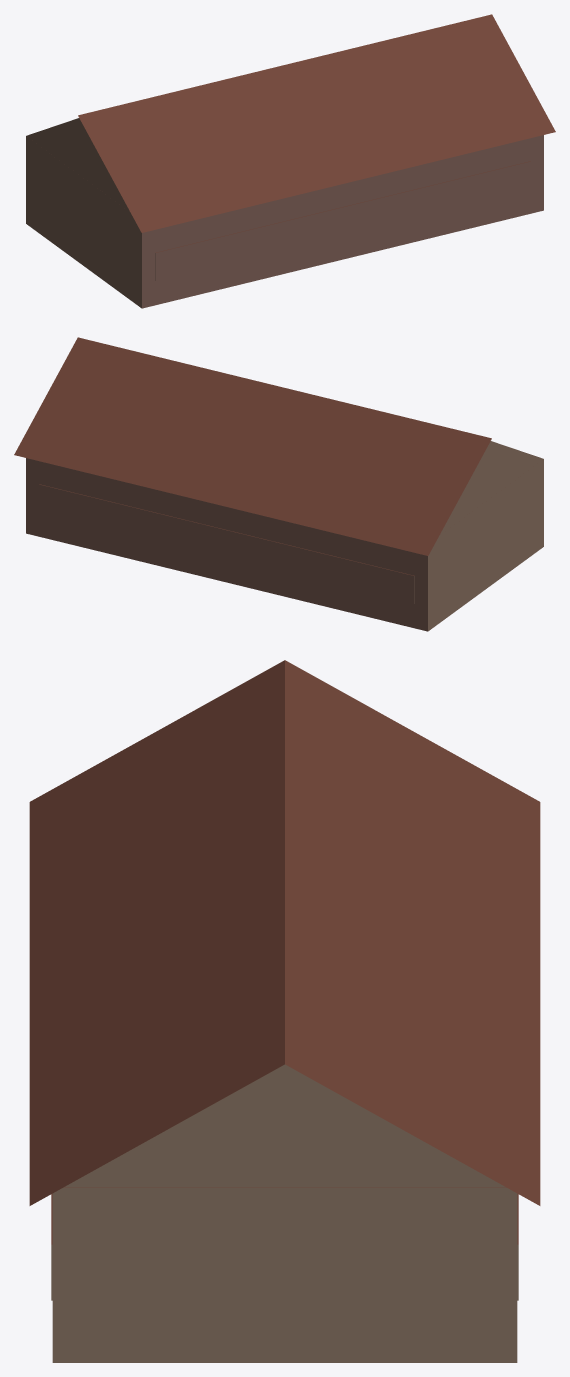
Rendered from schoolhouse.far-facades-v1.lod2.glb.
3 renders of one model, top to bottom at view 1: azimuth 30°, elevation 25°; view 2: azimuth 150°, elevation 25°; view 3: azimuth 270°, elevation 25°, orthographic. The views are drawn at different scales.
Visible parts, largest first — view 1: schoolhouse; view 2: schoolhouse; view 3: schoolhouse.
Part boxes in pixels (x1,y1,x2,y2): schoolhouse: (26, 14, 555, 308); schoolhouse: (14, 337, 543, 631); schoolhouse: (29, 660, 540, 1362).
Bounding box in the file's own units: 18.54 × 6.51 × 9.9.
